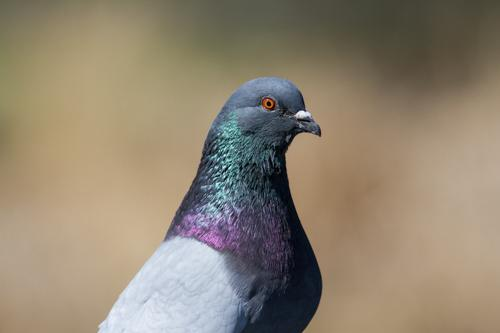Flying Rat: (98, 78, 328, 333)
